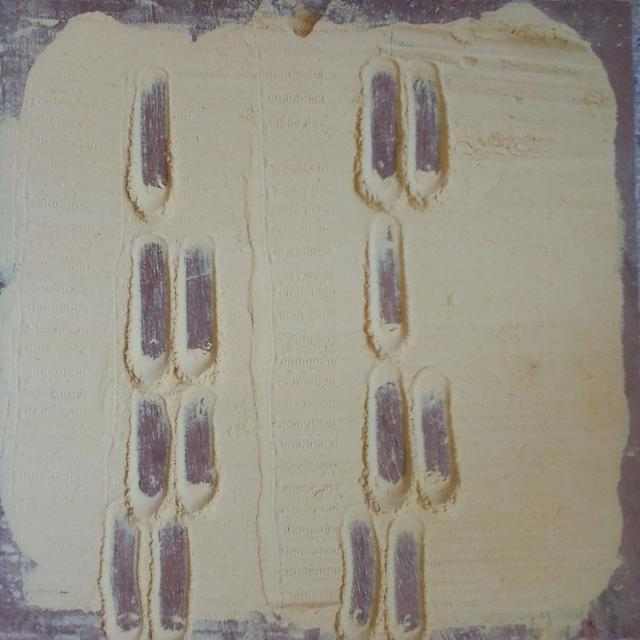double: (127, 240, 225, 360), (102, 516, 196, 640), (358, 50, 449, 176), (334, 510, 429, 630), (120, 392, 226, 495), (360, 382, 460, 488)
single: (130, 76, 180, 202), (364, 206, 407, 328)
